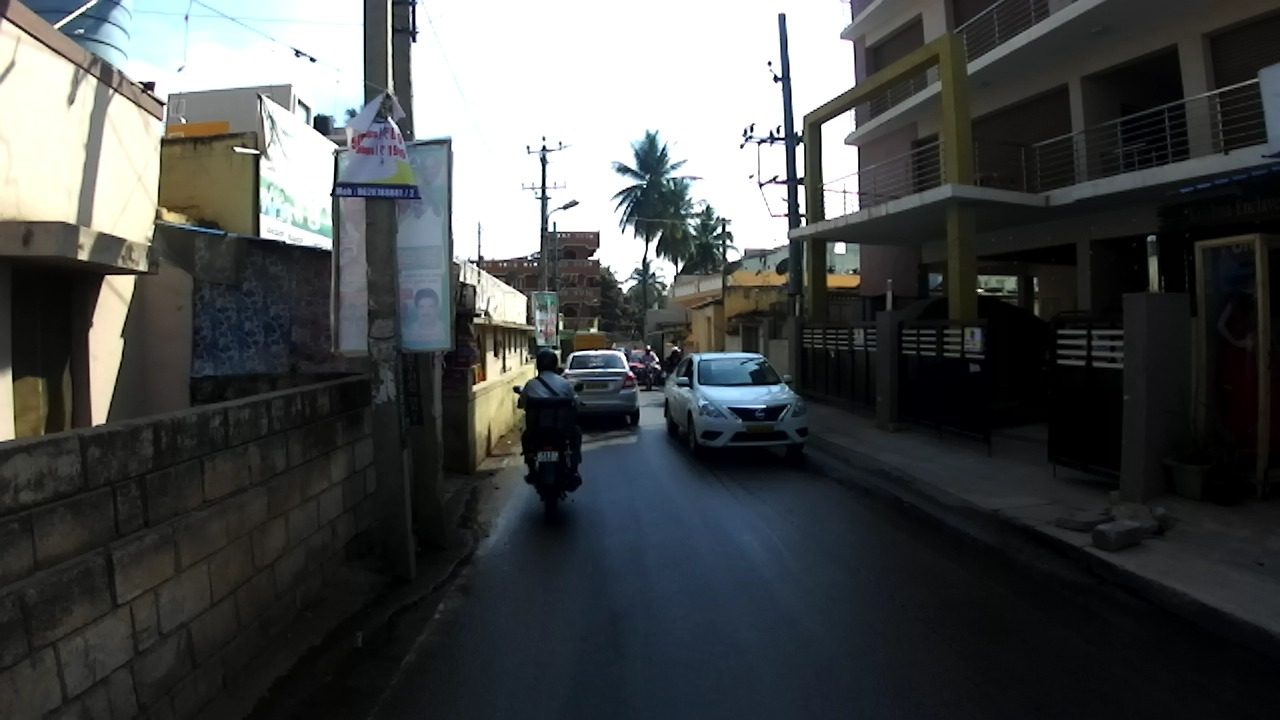car: (664, 352, 809, 456), (562, 349, 640, 427), (625, 349, 661, 384), (612, 347, 629, 359)
motorcycle: (512, 383, 588, 521), (638, 358, 661, 391), (663, 365, 679, 385)
rider: (520, 344, 581, 480), (638, 346, 660, 379), (665, 346, 682, 372), (633, 346, 637, 351)
truck: (572, 331, 608, 353)
